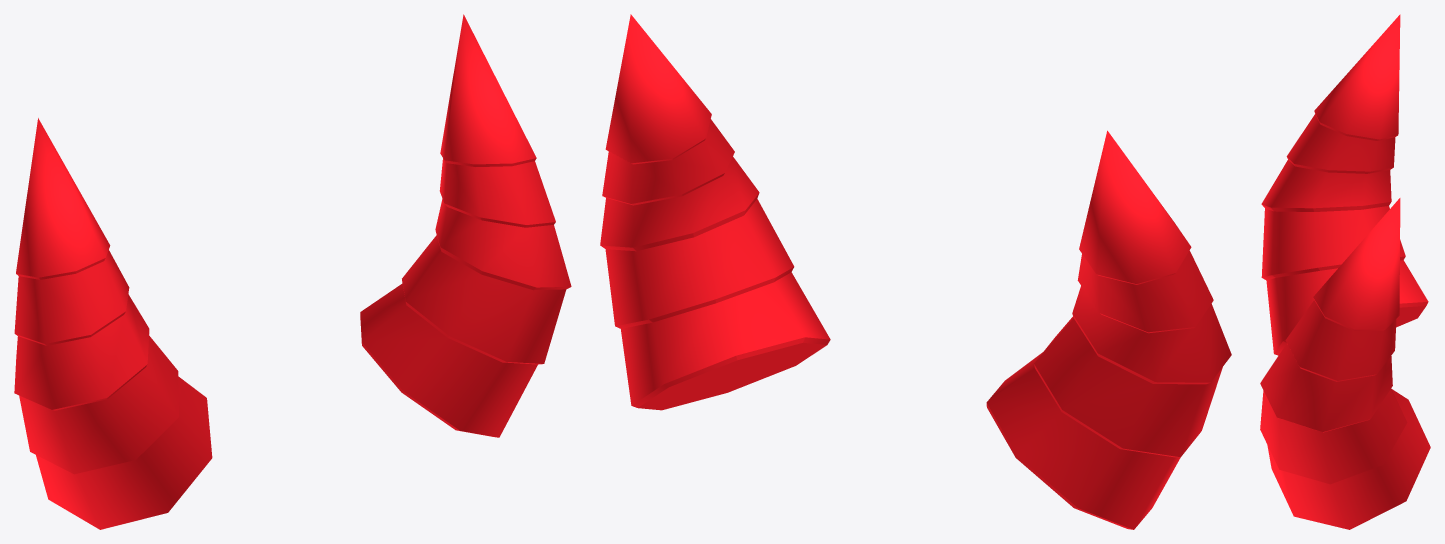
Rendered from Horn.fbx.
3 renders of one model, left to right at view 1: azimuth 30°, elevation 25°; view 2: azimuth 150°, elevation 25°; view 3: azimuth 270°, elevation 25°, orthographic. The views are drawn at different scales.
Parts seen in each view (by area): view 1: Horn1; view 2: Horn1; view 3: Horn1.
Boxes of the visible parts, x1,y1,x2,y2 form: Horn1: (14,14,571,529); Horn1: (600,14,1231,529); Horn1: (1260,14,1430,529).
Size of the model in its own units: 57.38 by 38.15 by 17.72.
